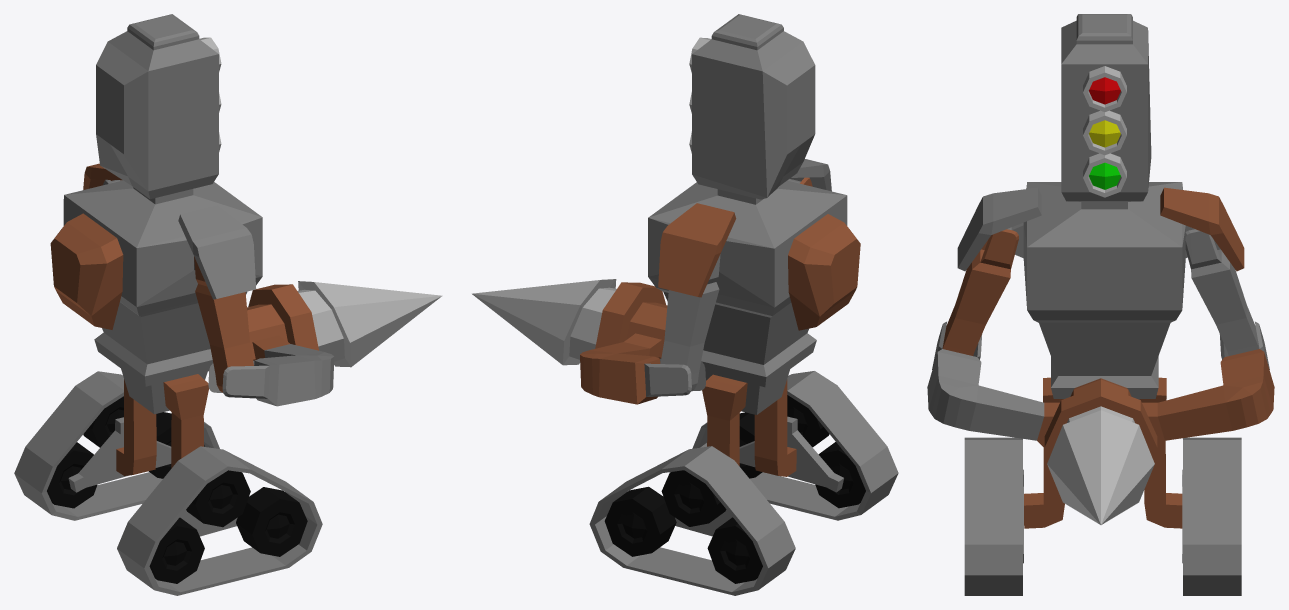
Rendered from Larguirucho.fbx.
3 views of the same model, side by side, from view 1: azimuth 30°, elevation 25°; view 2: azimuth 150°, elevation 25°; view 3: azimuth 270°, elevation 25° (orthographic). The views are drawn at different scales.
Visible parts, largest first — view 1: Circle.001; view 2: Circle.001; view 3: Circle.001.
Part boxes in pixels (x1=…): Circle.001: x1=14, y1=14, x2=442, y2=595; Circle.001: x1=472, y1=14, x2=898, y2=595; Circle.001: x1=927, y1=14, x2=1274, y2=595.
Bounding box in the file's own units: 0.9836 × 1.27 × 0.7391.
